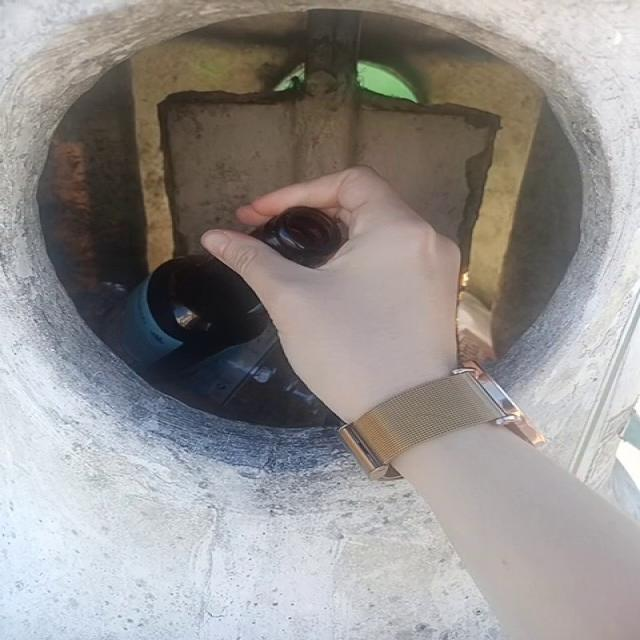glass: (125, 257, 269, 366), (249, 207, 343, 268)
